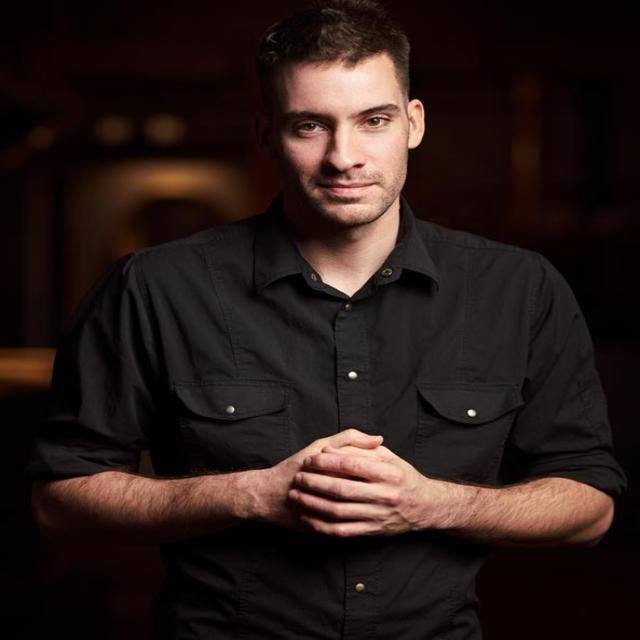mobile_phonerotation: (28, 2, 627, 637)
